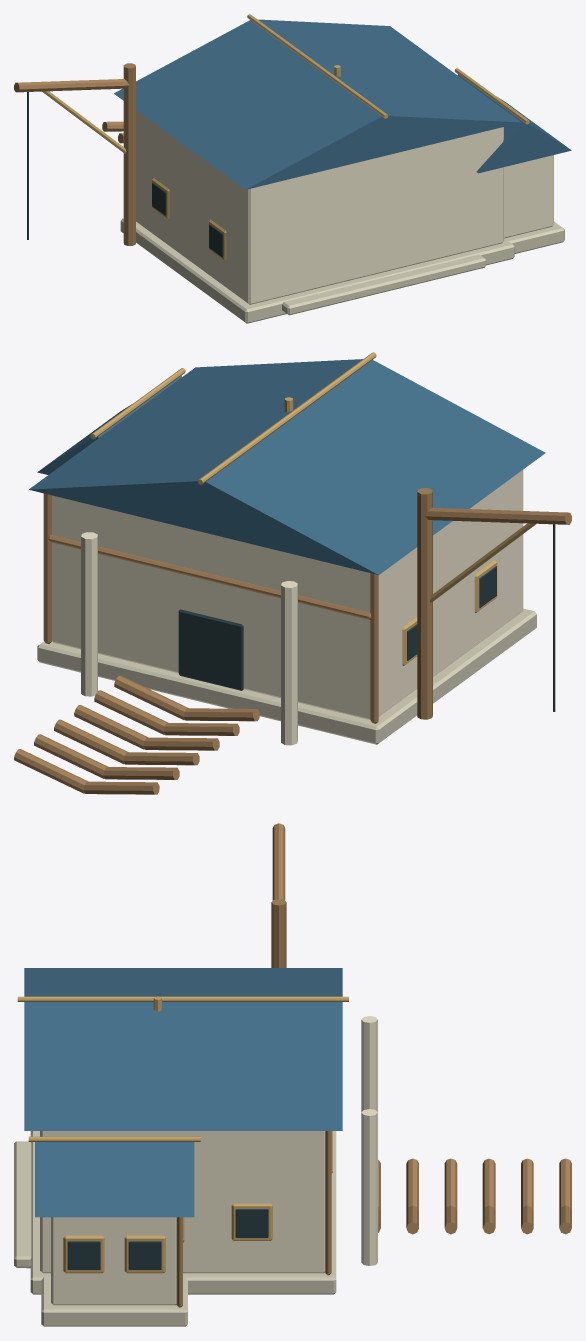
Rendered from level_22.glb.
The picture shows the model from 3 angles, top to bottom: view 1: azimuth 30°, elevation 25°; view 2: azimuth 150°, elevation 25°; view 3: azimuth 270°, elevation 25°; orthographic projection. The views are drawn at different scales.
Visible parts, largest first — view 1: shipyard — level 22; view 2: shipyard — level 22; view 3: shipyard — level 22.
Boxes of the visible parts, x1,y1,x2,y2 form: shipyard — level 22: (14, 14, 571, 323); shipyard — level 22: (14, 352, 571, 794); shipyard — level 22: (14, 823, 571, 1326).
Size of the model in its own units: 9.97 by 4.16 by 8.76.
